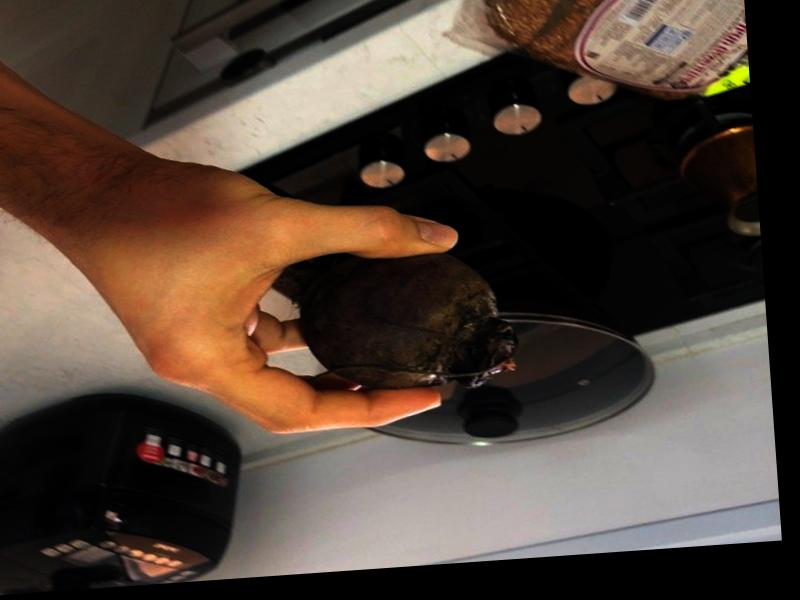Beet: (283, 246, 520, 397)
